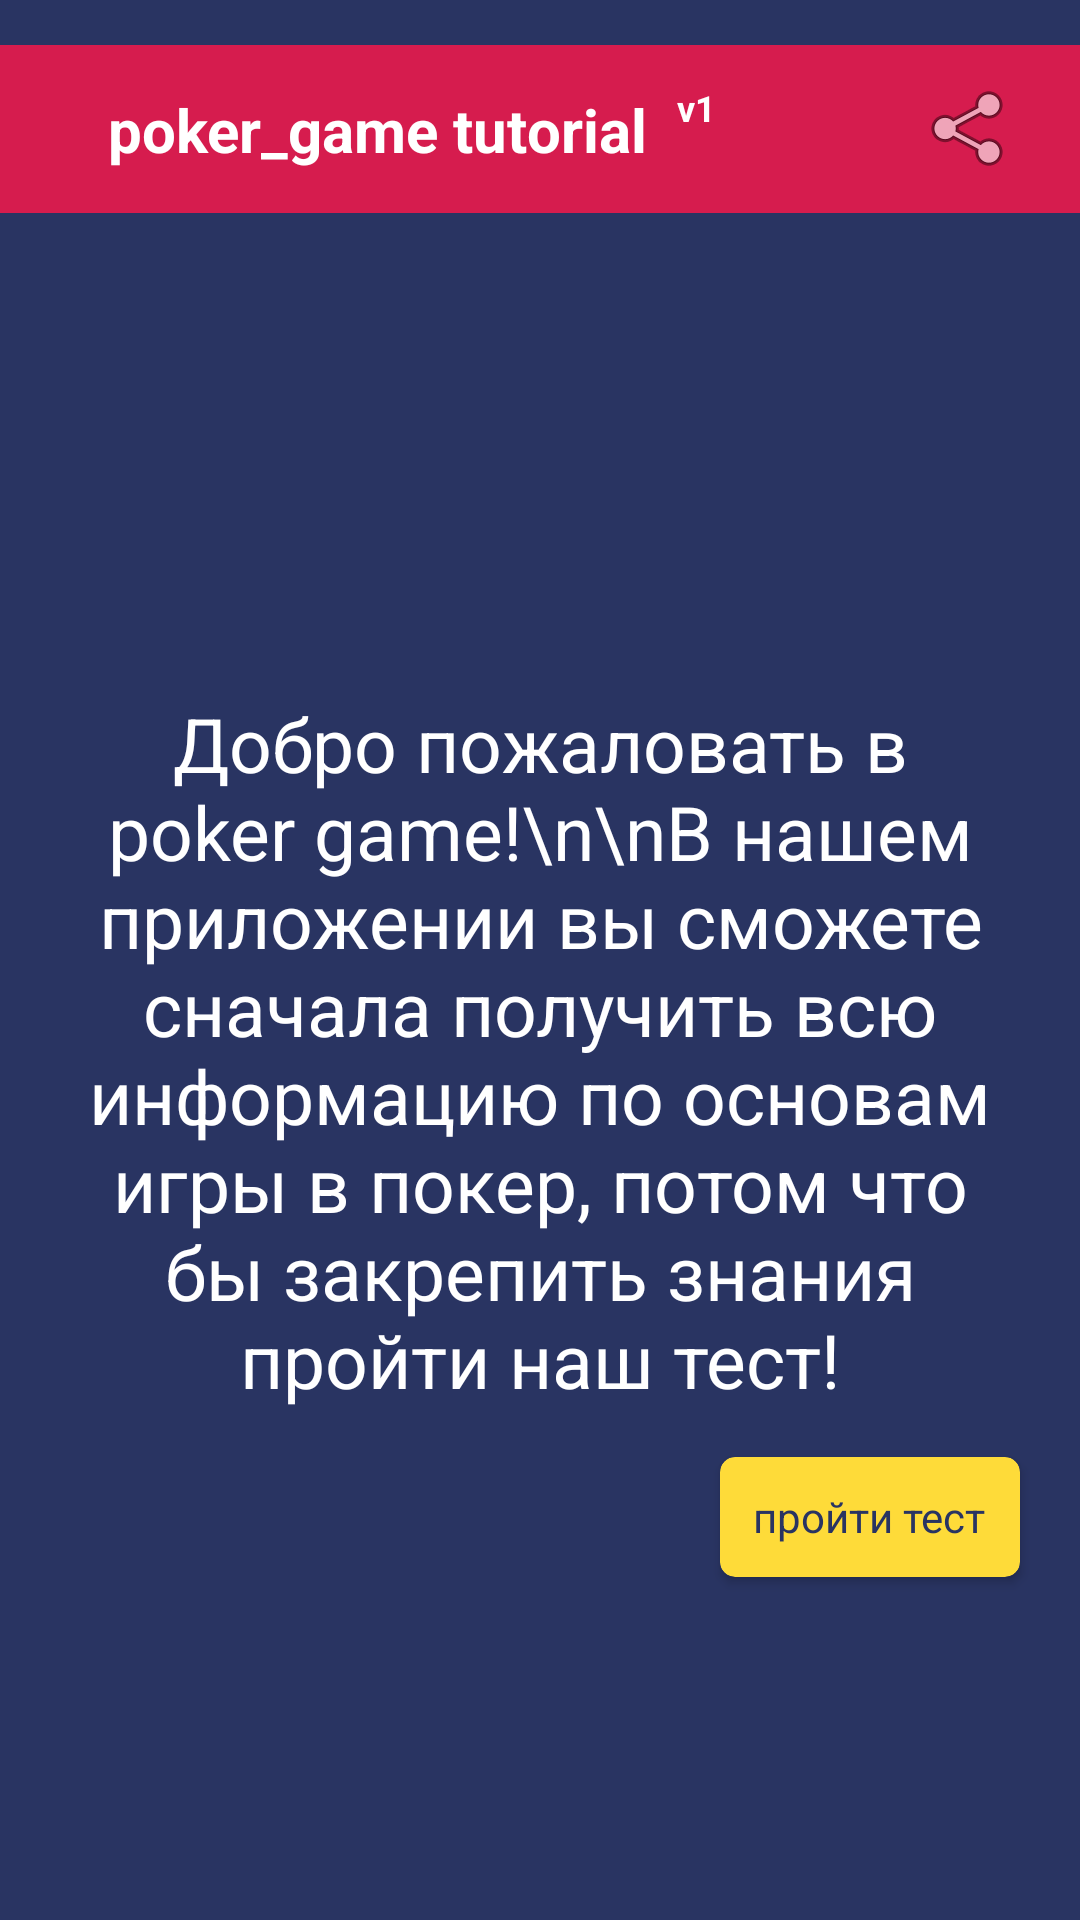

Icons on this 1080w x 1920h Android screen, each with its box as (x1, y1, x2, y2):
share: (931, 91, 1003, 166)
